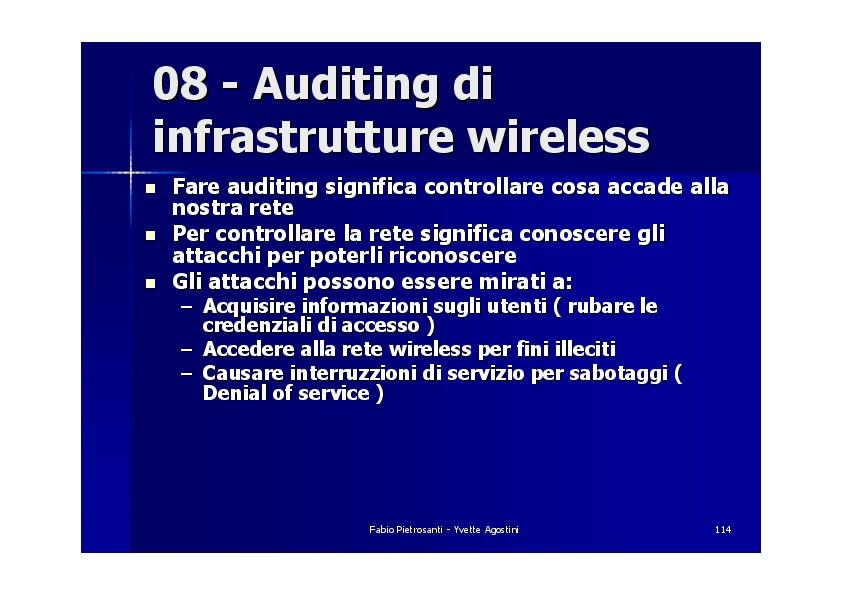paragraph: (136, 169, 749, 432)
title: (138, 52, 678, 165)
